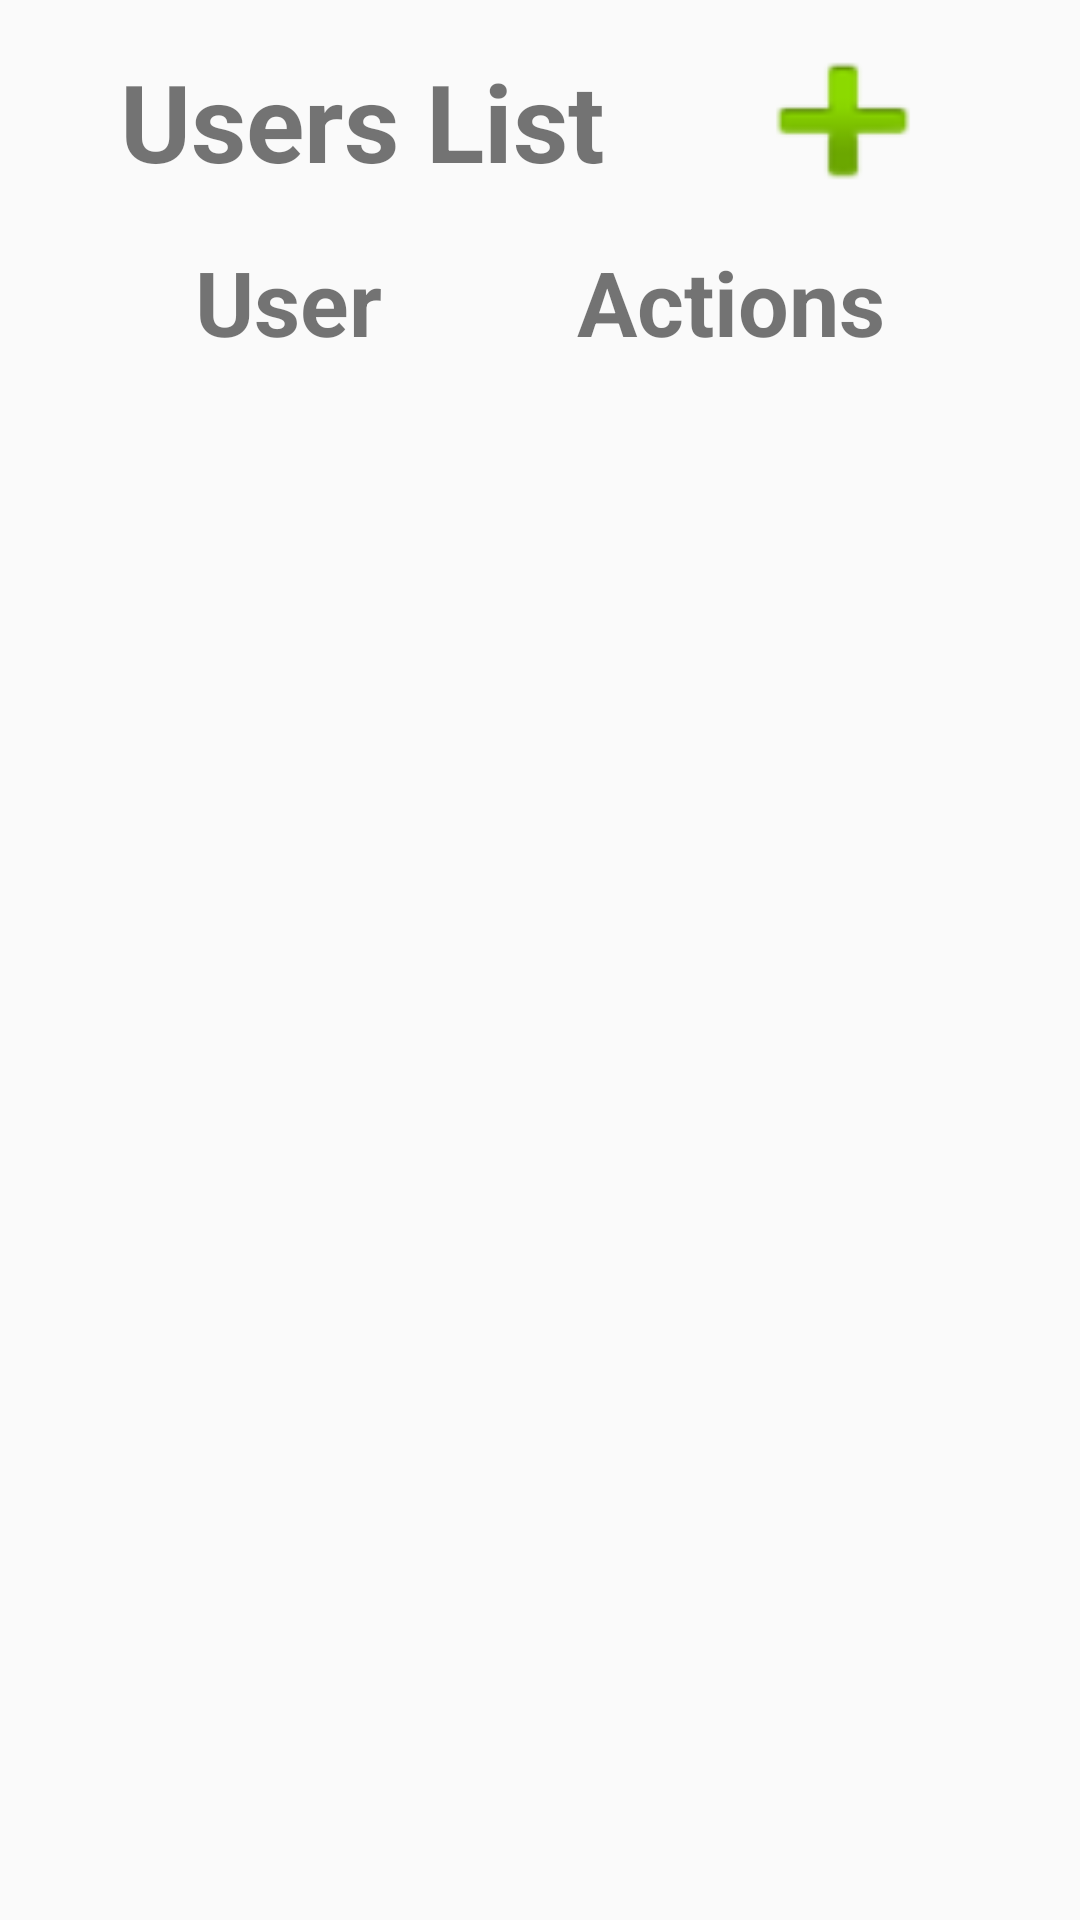

Icon click points for this 1080×1920 phone screenshot, format [x,y]:
add: [843,121]
